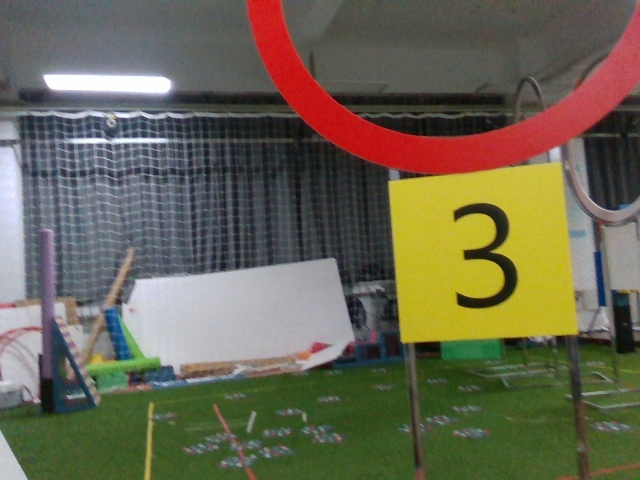target: (393, 180, 570, 331)
